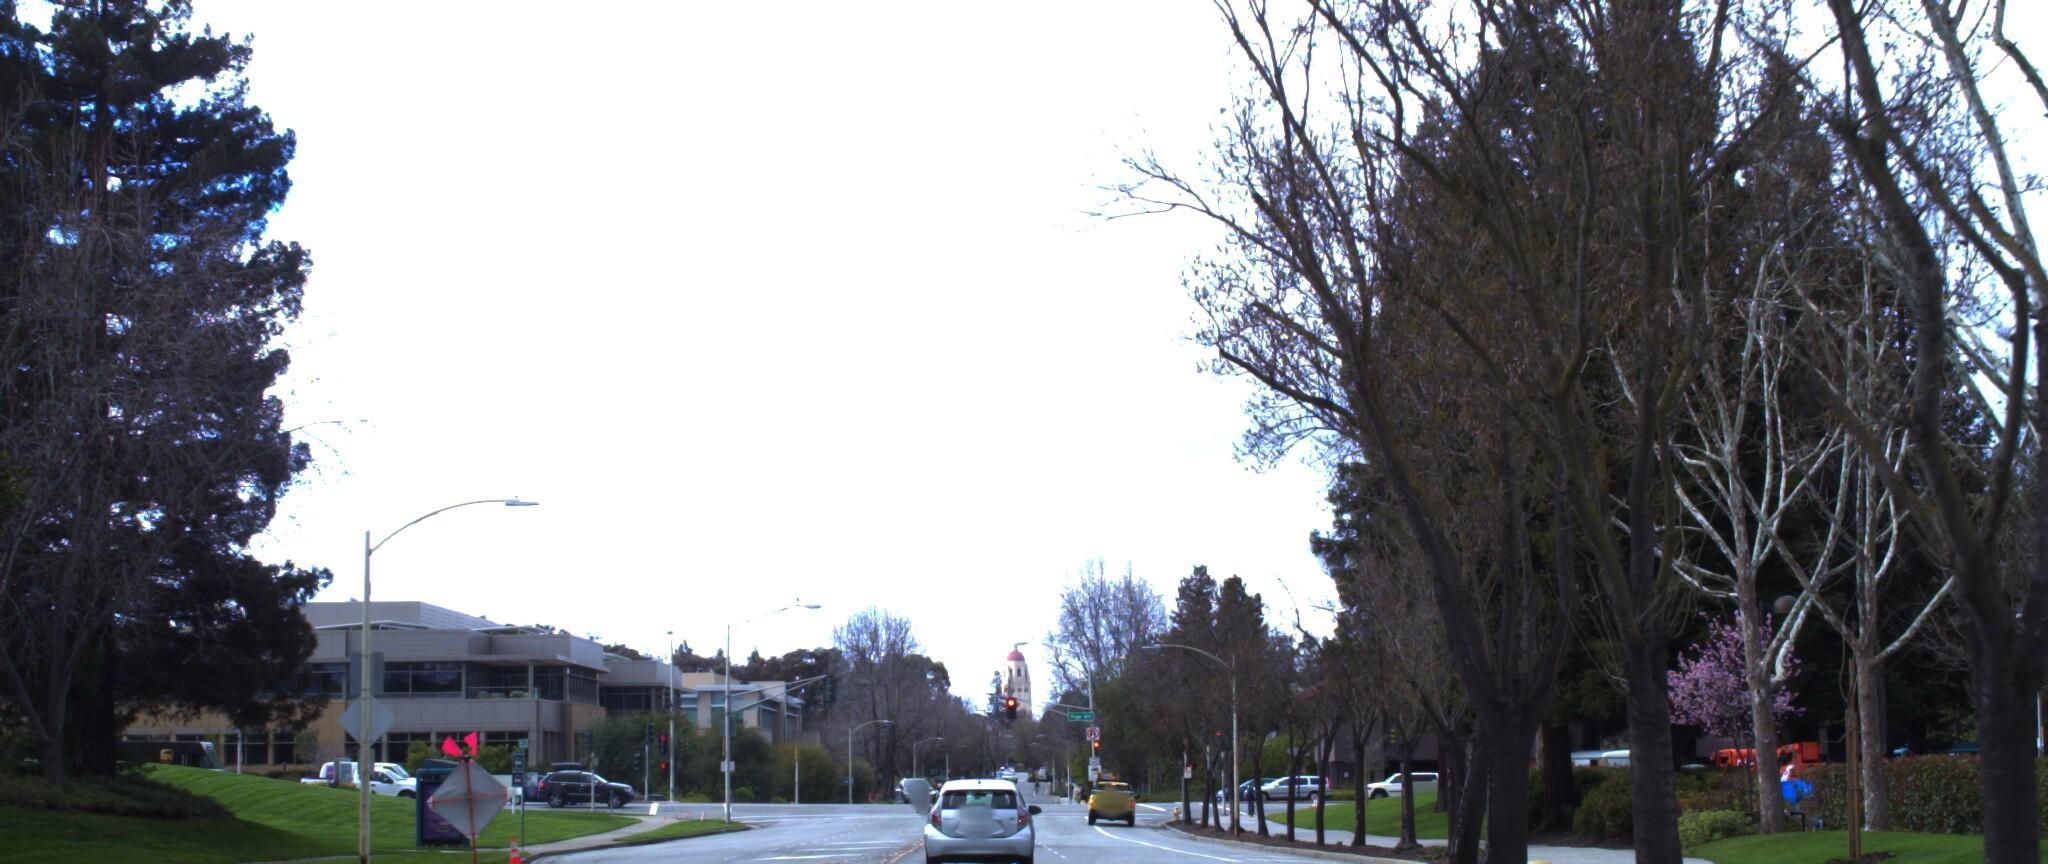car: (910, 757, 1034, 861)
